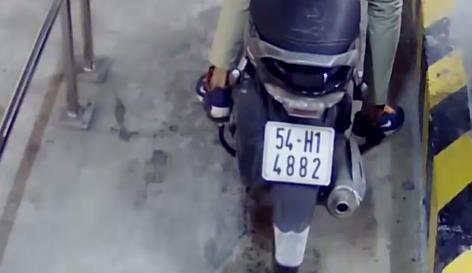lisence: (260, 121, 335, 186)
